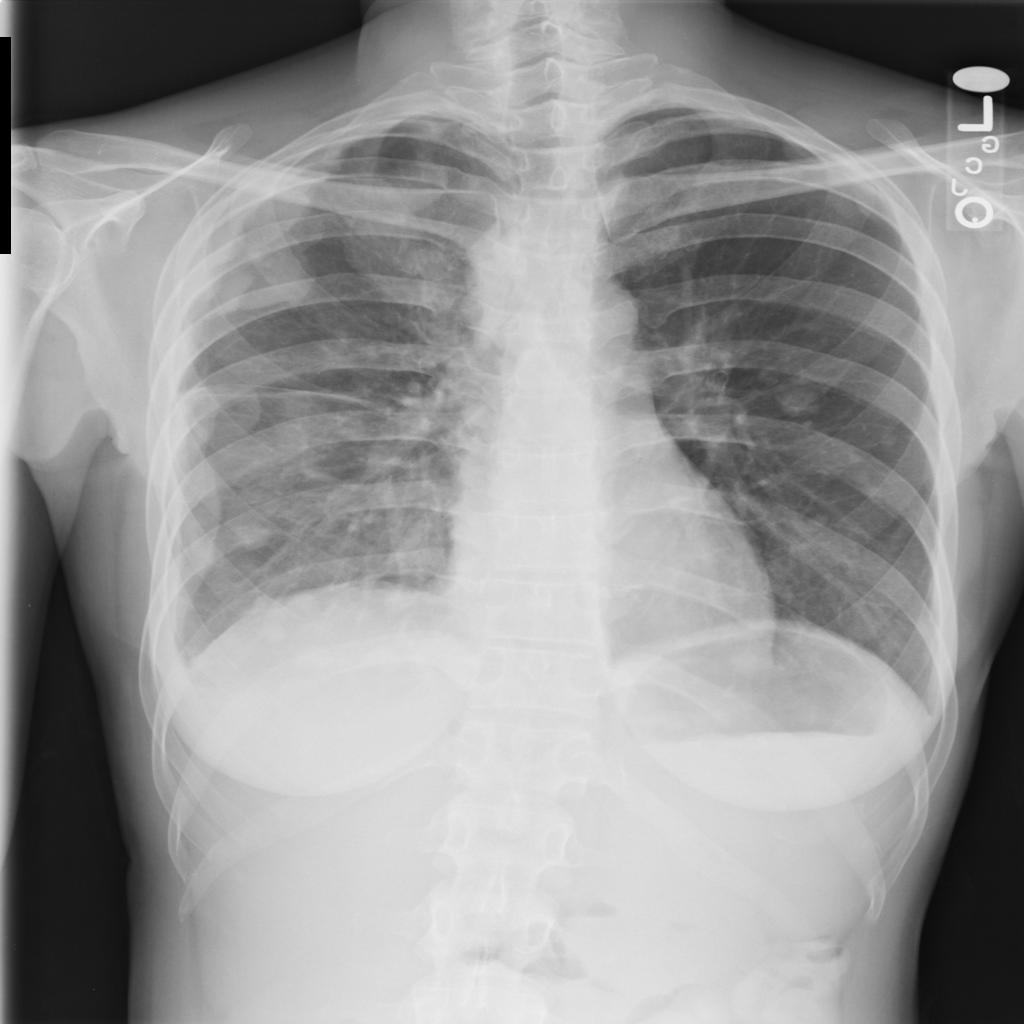nodule: (197, 222, 337, 324), (172, 370, 285, 454), (389, 243, 479, 313), (709, 615, 791, 688), (190, 251, 275, 311), (214, 494, 297, 554), (760, 366, 839, 429), (245, 609, 303, 654), (864, 415, 919, 461)
